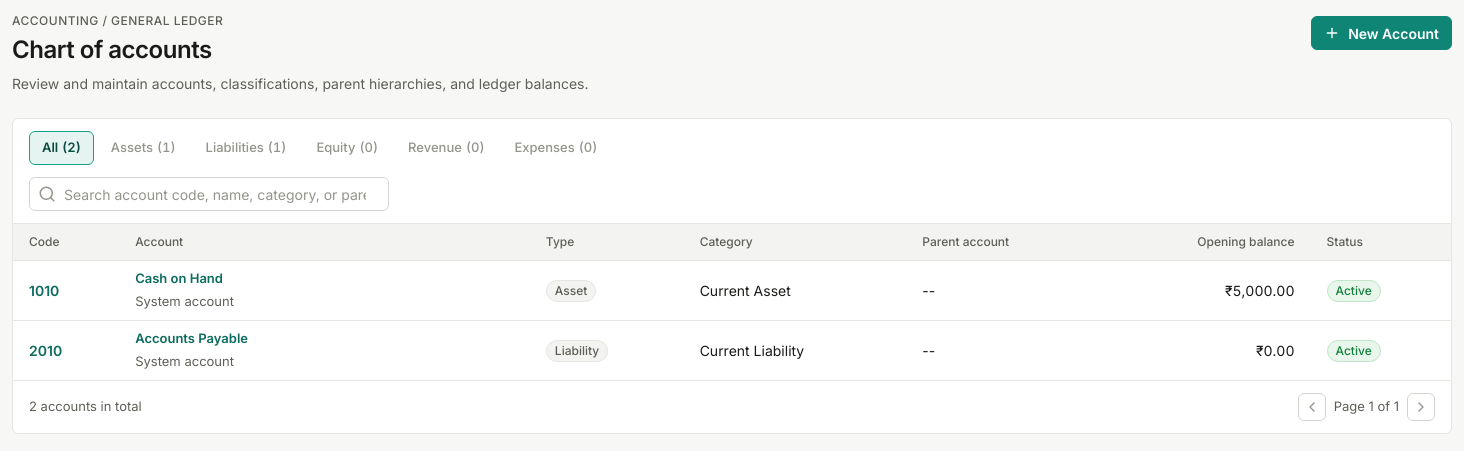
Test: AccountsPage › filters accounts by type when clicking tab
The width and height of the screenshot is (1464, 451).
expect the link "Cash on Hand" is shown: met, box [135,270,223,286]
Click the tab "Liabilities (1)": [246, 148] box [193,131,299,165]
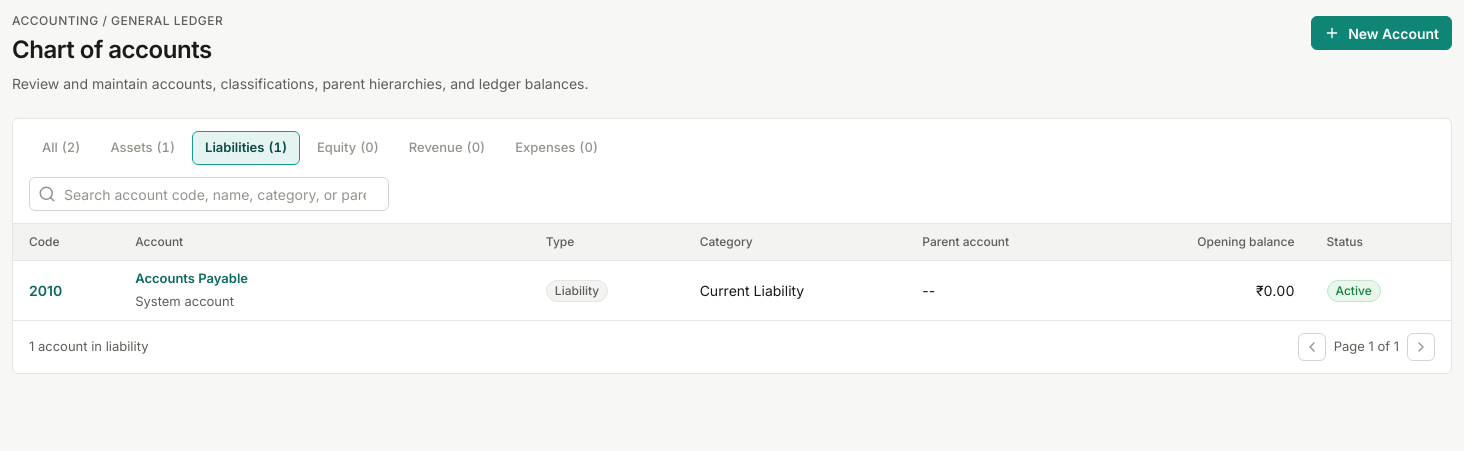
expect the link "Accounts Payable" is shown: met, box [135,270,248,286]
expect the link "Cash on Hand" is gone: met
